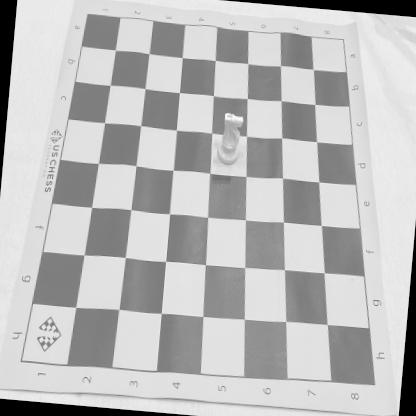knight: (216, 112, 245, 167)
